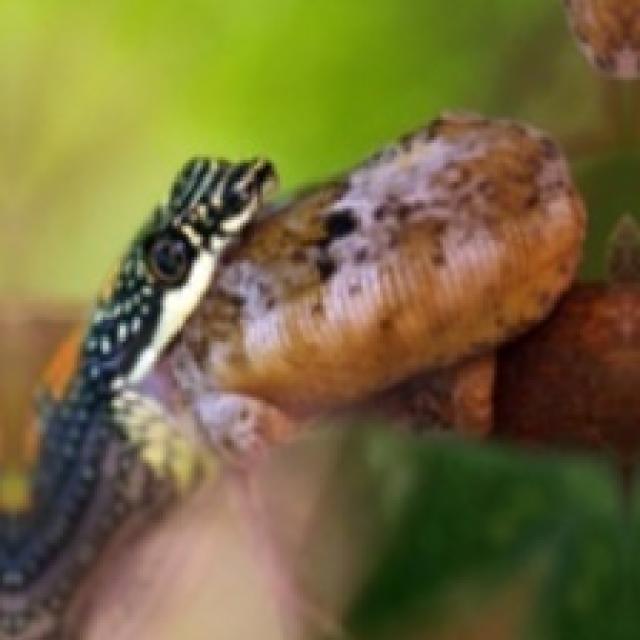paradise tree snake: (0, 114, 583, 637), (143, 554, 277, 629)
